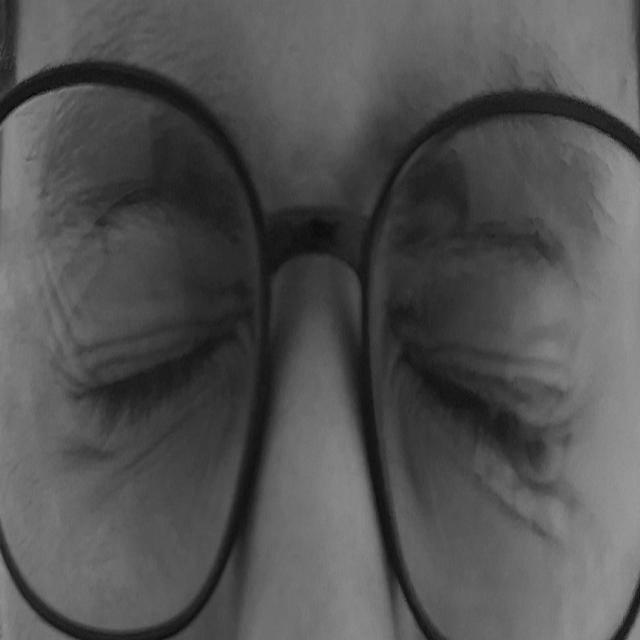real: (23, 108, 609, 585)
